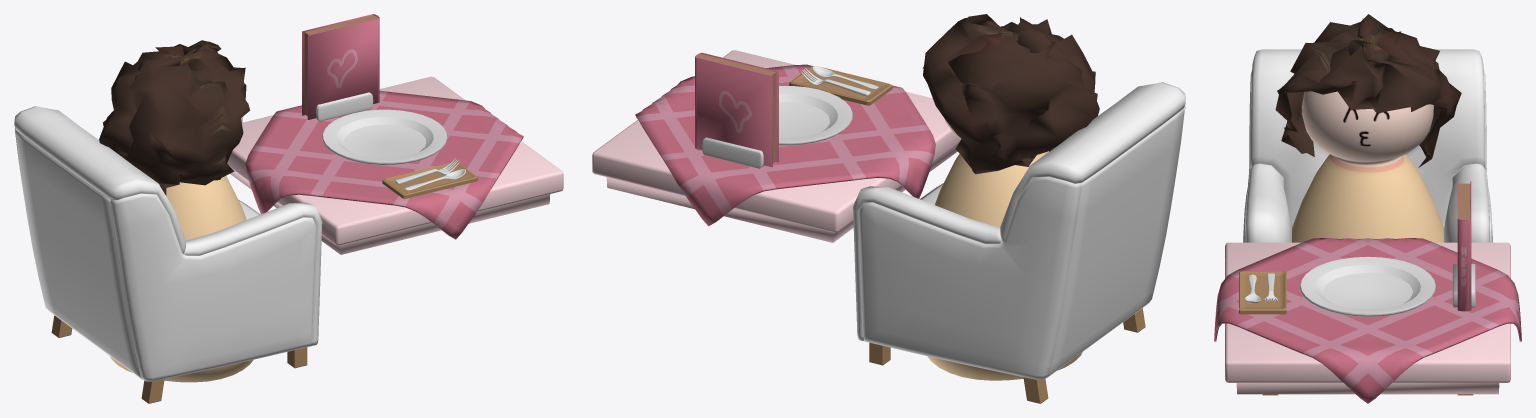
File: CUSTOM.fbx
3 views of the same model, side by side, from view 1: azimuth 30°, elevation 25°; view 2: azimuth 150°, elevation 25°; view 3: azimuth 270°, elevation 25° (orthographic). The views are drawn at different scales.
Parts seen in each view (by area): view 1: CHAIR, seat, hair, table, book, plate, human, tray, menugrip, iq_Pages_Library_Book-Old_E; view 2: CHAIR, hair, seat, table, book, human, plate, tray, menugrip, iq_Pages_Library_Book-Old_E; view 3: seat, CHAIR, human, table, hair, plate, tray, book, iq_Pages_Library_Book-Old_E, menugrip.
Boxes of the visible parts, x1,y1,x2,y2 form: CHAIR: (14,106,322,403); seat: (245,90,523,239); hair: (99,40,250,195); table: (227,76,563,254); book: (302,14,379,119); plate: (322,109,447,164); human: (110,117,253,382); tray: (382,162,477,198); menugrip: (316,92,373,121); iq_Pages_Library_Book-Old_E: (304,15,378,115); CHAIR: (853,82,1185,403); hair: (922,14,1099,174); seat: (635,64,935,226); table: (592,50,960,242); book: (695,52,778,167); human: (927,118,1082,380); plate: (779,86,852,145); tray: (789,66,892,105); menugrip: (702,137,763,168); iq_Pages_Library_Book-Old_E: (696,54,776,163); seat: (1214,238,1521,403); CHAIR: (1243,49,1492,395); human: (1292,91,1443,242); table: (1225,242,1510,394); hair: (1275,14,1461,167); plate: (1299,256,1436,316); tray: (1239,271,1286,314); book: (1457,181,1471,311); iq_Pages_Library_Book-Old_E: (1458,183,1470,219); menugrip: (1452,264,1475,307).
Bounding box in the file's own units: 391 × 266 × 215.
